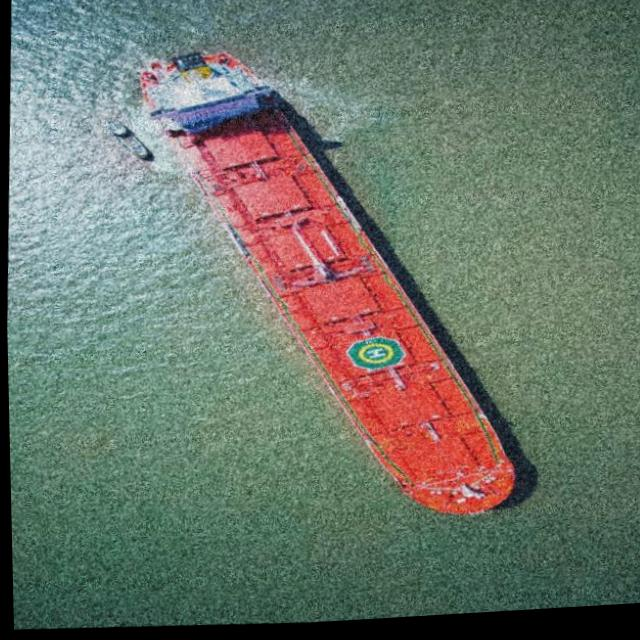ship2: (138, 51, 535, 520)
